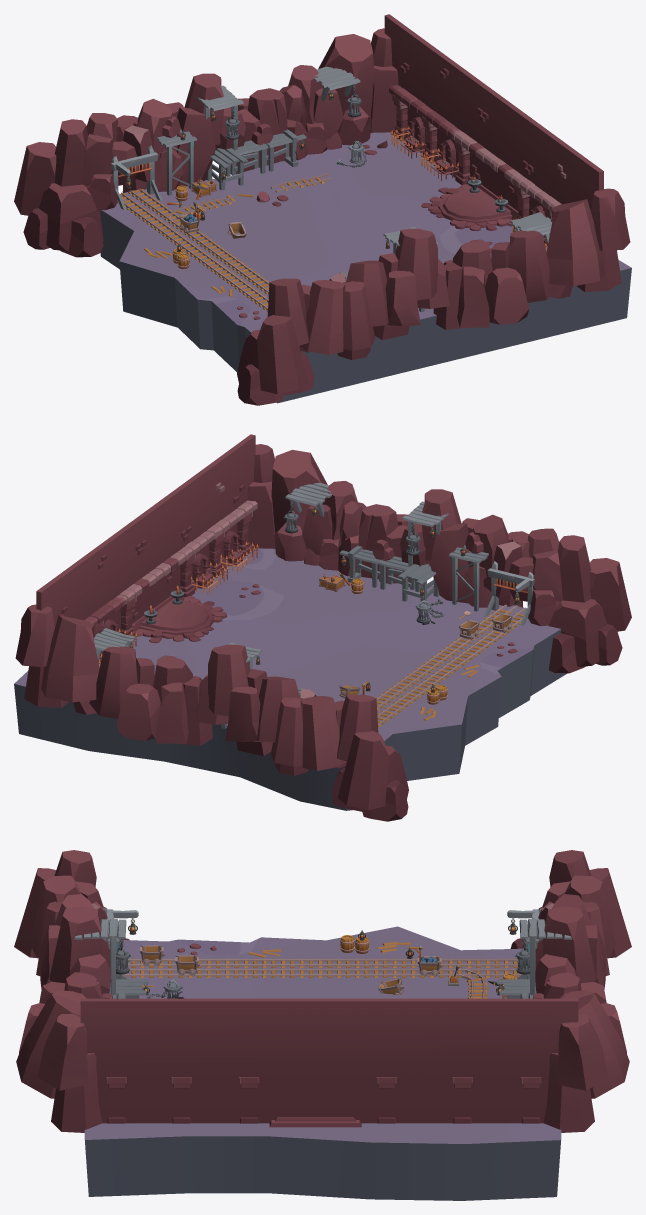
The model's file is cave_inside_for_level_1.fbx.
3 renders of one model, top to bottom at view 1: azimuth 30°, elevation 25°; view 2: azimuth 150°, elevation 25°; view 3: azimuth 270°, elevation 25°, orthographic. The views are drawn at different scales.
Visible parts, largest first — view 1: Circle.072, Plane.010, Cube.027, Cube.047, Cube.143, Plane, Cube.034, Plane.045, Plane.017; view 2: Circle.072, Plane.010, Cube.027, Cube.047, Cube.143, Plane, Cube.034, Plane.017, Plane.045; view 3: Cube.027, Plane.010, Circle.072, Cube.047, Plane.045, Plane.017, Plane, Cube.034, Cylinder.019.
Part boxes in pixels (left/top/right/bottom): Circle.072: left=14, top=28, right=630, bottom=405; Plane.010: left=100, top=132, right=631, bottom=403; Cube.027: left=384, top=14, right=603, bottom=239; Cube.047: left=157, top=66, right=552, bottom=311; Cube.143: left=389, top=85, right=561, bottom=211; Plane: left=438, top=187, right=512, bottom=222; Cube.034: left=111, top=145, right=162, bottom=209; Plane.045: left=129, top=188, right=269, bottom=294; Plane.017: left=120, top=192, right=268, bottom=310; Circle.072: left=15, top=444, right=631, bottom=821; Plane.010: left=14, top=548, right=567, bottom=810; Cube.027: left=36, top=434, right=255, bottom=654; Cube.047: left=93, top=482, right=488, bottom=728; Cube.143: left=84, top=500, right=257, bottom=626; Plane: left=140, top=598, right=213, bottom=635; Cube.034: left=483, top=561, right=534, bottom=625; Plane.017: left=377, top=607, right=526, bottom=725; Plane.045: left=376, top=604, right=517, bottom=708; Cube.027: left=80, top=998, right=578, bottom=1123; Plane.010: left=84, top=926, right=561, bottom=1200; Circle.072: left=14, top=850, right=631, bottom=1132; Cube.047: left=74, top=918, right=571, bottom=998; Plane.045: left=123, top=969, right=522, bottom=998; Plane.017: left=124, top=959, right=521, bottom=966; Plane: left=269, top=1117, right=361, bottom=1127; Cube.034: left=103, top=907, right=542, bottom=979; Cylinder.019: left=116, top=938, right=529, bottom=974.
Size of the model in its own units: 11.25 by 4.19 by 12.97.
